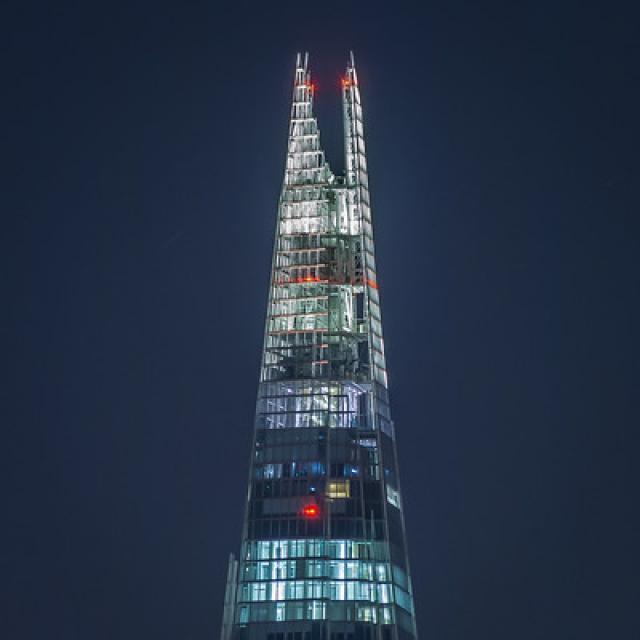Normal_building: (218, 43, 425, 640)
